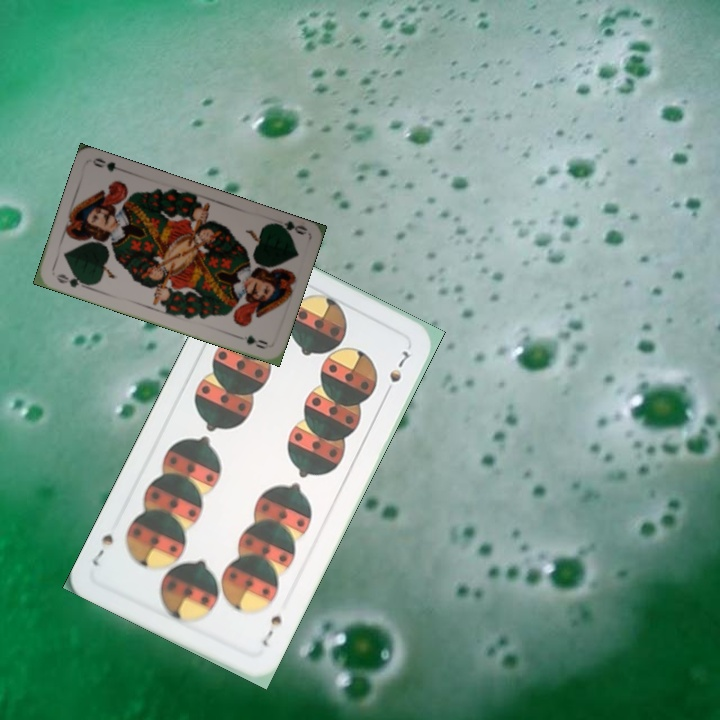GO: (268, 217, 309, 238), (52, 270, 91, 291)
S7: (258, 611, 285, 649)
